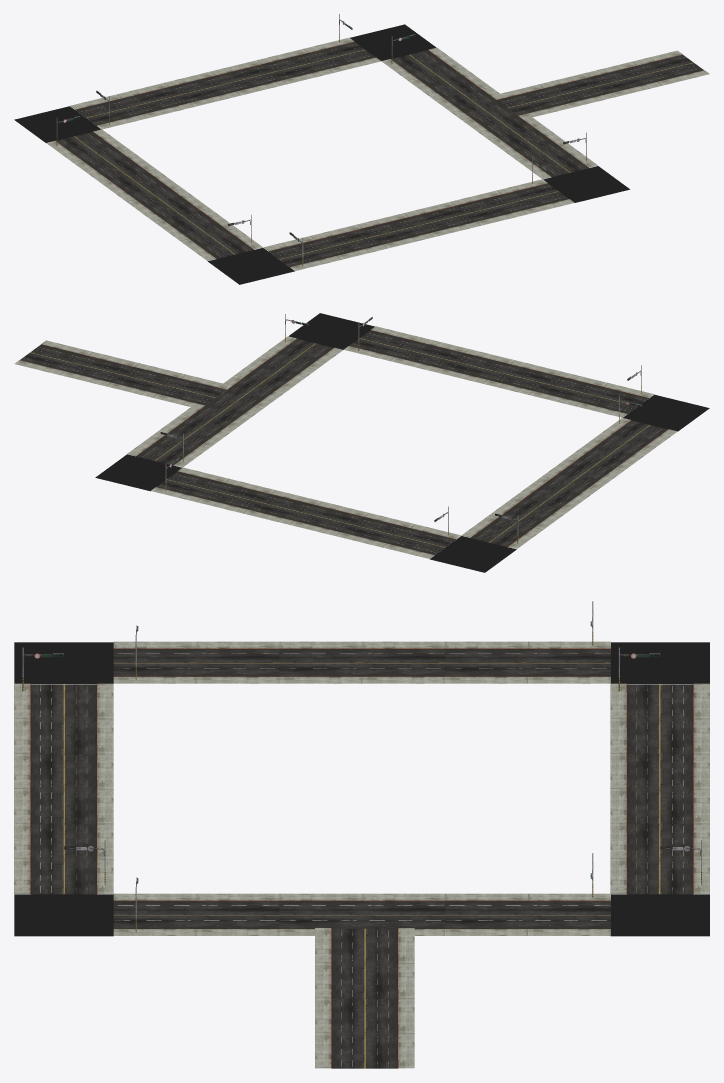
Rendered from road_traffic_sign.glb.
3 renders of one model, top to bottom at view 1: azimuth 30°, elevation 25°; view 2: azimuth 150°, elevation 25°; view 3: azimuth 270°, elevation 25°, orthographic. The views are drawn at different scales.
Parts seen in each view (by area): view 1: road_03__0.010, road_03__0.005, road_03__0.012, road_03__0.004, road_03__0.013, road_03__0.011, road_03__0.009, road_03__0.003, road_03__0.006, road_03__0.001, road_03, road_03__0.002 (+6 smaller); view 2: road_03__0.013, road_03__0.011, road_03__0.009, road_03__0.004, road_03__0.012, road_03__0.010, road_03__0.005, road_03__0.008, road_03__0.001, road_03__0.002, road_03__0.003, road_03 (+6 smaller); view 3: road_03__0.002, road_03__0.008, road_03__0.001, road_03, road_03__0.006, road_03__0.012, road_03__0.010, road_03__0.003, road_03__0.004, road_03__0.009, road_03__0.013, road_03__0.005 (+6 smaller).
Part boxes in pixels (left/top/right/bottom): road_03__0.010: left=163, top=60, right=287, bottom=106; road_03__0.005: left=450, top=179, right=574, bottom=225; road_03__0.012: left=584, top=50, right=709, bottom=96; road_03__0.004: left=357, top=202, right=481, bottom=248; road_03__0.013: left=492, top=73, right=616, bottom=119; road_03__0.011: left=256, top=37, right=380, bottom=83; road_03__0.009: left=70, top=83, right=194, bottom=129; road_03__0.003: left=263, top=224, right=387, bottom=270; road_03__0.006: left=381, top=47, right=490, bottom=100; road_03__0.001: left=100, top=168, right=208, bottom=221; road_03: left=46, top=129, right=154, bottom=182; road_03__0.002: left=154, top=208, right=262, bottom=260; road_03__0.013: left=107, top=363, right=231, bottom=409; road_03__0.011: left=151, top=467, right=274, bottom=513; road_03__0.009: left=336, top=513, right=460, bottom=558; road_03__0.004: left=436, top=349, right=560, bottom=394; road_03__0.012: left=14, top=340, right=138, bottom=386; road_03__0.010: left=244, top=490, right=368, bottom=535; road_03__0.005: left=344, top=326, right=467, bottom=372; road_03__0.008: left=234, top=336, right=343, bottom=388; road_03__0.001: left=515, top=457, right=623, bottom=509; road_03__0.002: left=569, top=418, right=677, bottom=470; road_03__0.003: left=529, top=371, right=653, bottom=417; road_03: left=461, top=496, right=570, bottom=548; road_03__0.002: left=113, top=641, right=279, bottom=683; road_03__0.008: left=113, top=893, right=279, bottom=935; road_03__0.001: left=279, top=641, right=445, bottom=683; road_03: left=445, top=641, right=610, bottom=683; road_03__0.006: left=445, top=893, right=610, bottom=935; road_03__0.012: left=315, top=998, right=414, bottom=1068; road_03__0.010: left=610, top=753, right=709, bottom=824; road_03__0.003: left=14, top=683, right=113, bottom=754; road_03__0.004: left=14, top=753, right=113, bottom=824; road_03__0.009: left=610, top=683, right=709, bottom=754; road_03__0.013: left=315, top=928, right=414, bottom=998; road_03__0.005: left=14, top=823, right=113, bottom=894.
Size of the model in its own units: 1354 by 65.71 by 932.
Materials: 2 (1 with a texture image).
